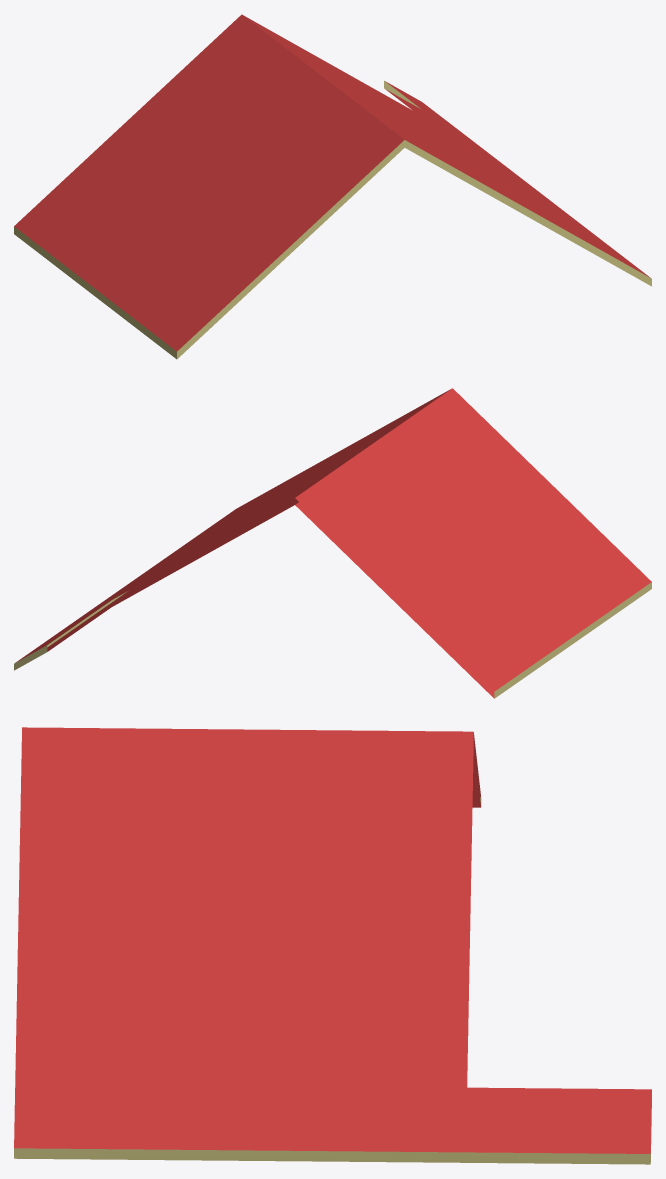
The picture shows the model from 3 angles, top to bottom: view 1: azimuth 30°, elevation 25°; view 2: azimuth 150°, elevation 25°; view 3: azimuth 270°, elevation 25°; orthographic projection. The views are drawn at different scales.
Size of the model in its own units: 6.36 by 5.51 by 2.6.
